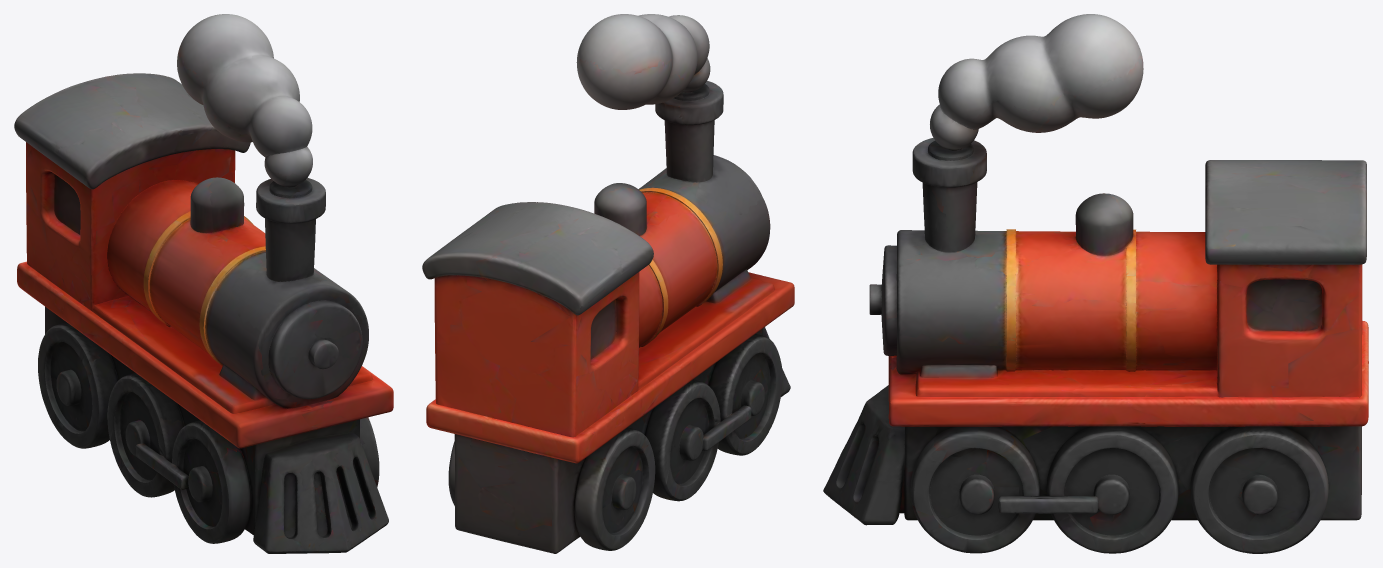
Rendered from train_pbr.glb.
3 views of the same model, side by side, from view 1: azimuth 30°, elevation 25°; view 2: azimuth 150°, elevation 25°; view 3: azimuth 270°, elevation 25° (orthographic). The views are drawn at different scales.
Visible parts, largest first — view 1: model; view 2: model; view 3: model.
Boxes of the visible parts, left/top/right/bottom form: model: left=14, top=14, right=393, bottom=553; model: left=422, top=14, right=794, bottom=553; model: left=823, top=14, right=1368, bottom=553.
Bounding box in the file's own units: 0.6681 × 1.73 × 1.71.
1 material, 1 textured.
